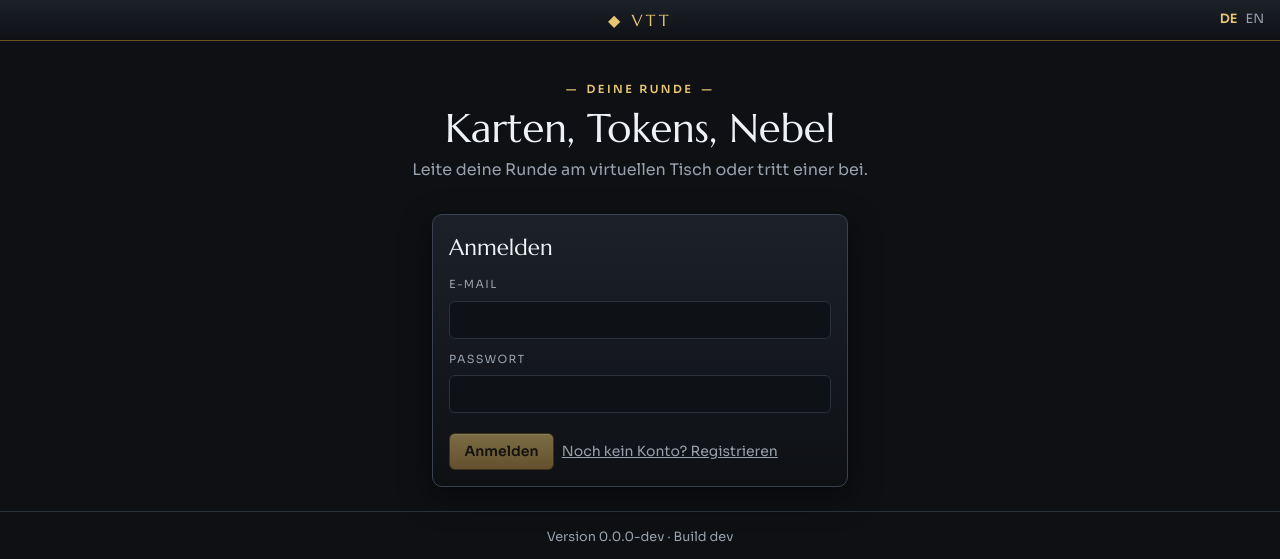
Scenario: Zurück auf Deutsch
This screenshot has width=1280, height=559.
Expected: the field labelled "E-Mail" is shown, [449,301,831,339]
// GIVEN: die aktive Sprache ist Englisch (Ueberschrift `Sign in`).
Click the button with aria-label "English". click: (1255, 20)
box: [1246,10,1264,30]
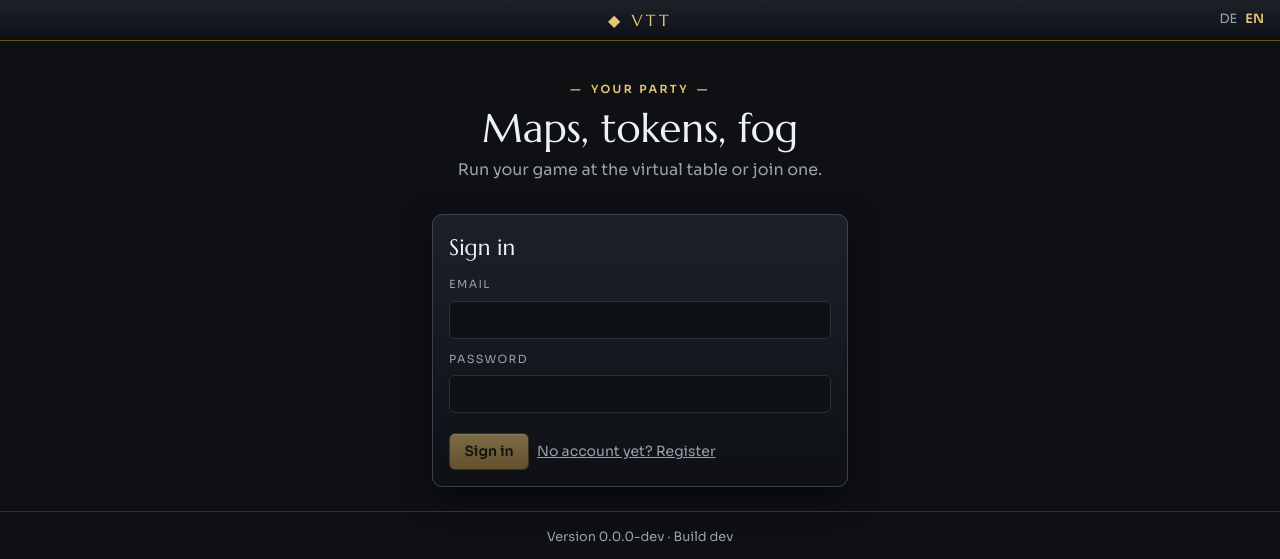
Expected: the heading "Sign in" is shown, [449,233,515,261]
// der Besucher loest `Deutsch` aus.
Click the button with aria-label "Deutsch". click: (1228, 20)
box: [1220,10,1237,30]
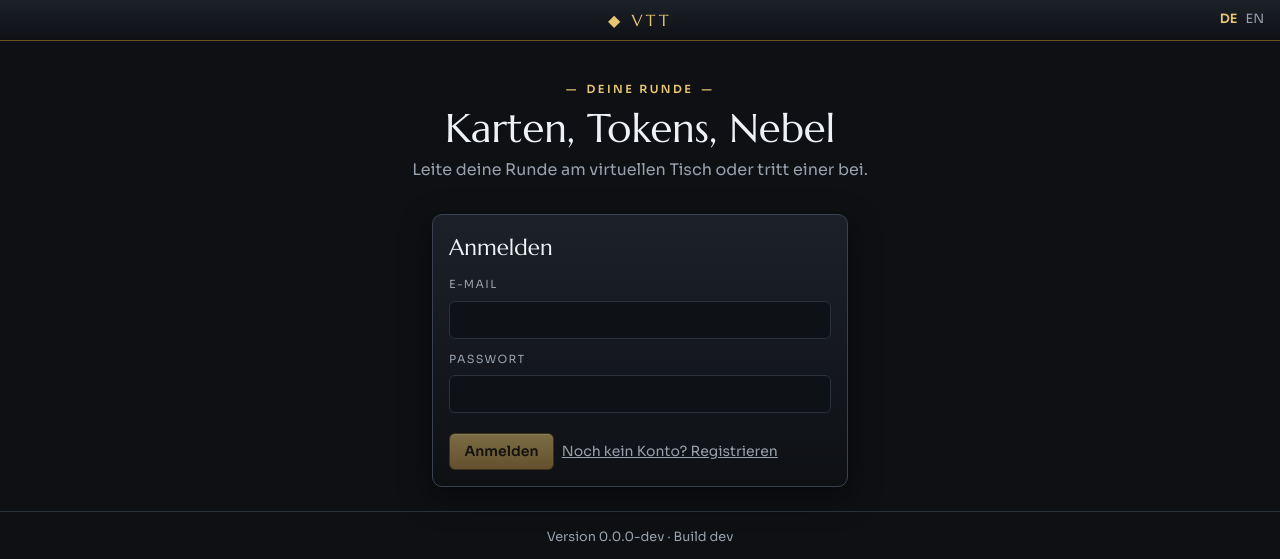
Expected: the heading "Anmelden" is shown, [449,233,553,261]
Expected: the button "Noch kein Konto? Registrieren" is shown, [562,441,778,462]
Expected: the heading "Sign in" is gone
